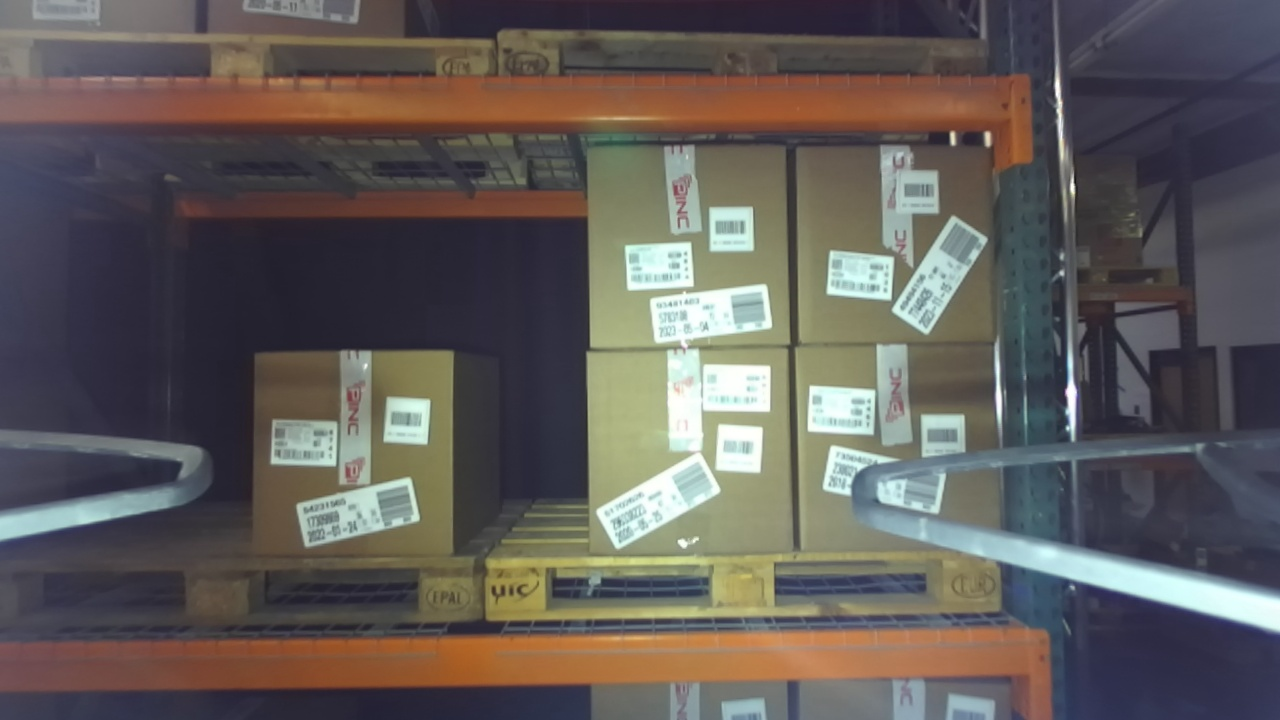box: (547, 326, 823, 568), (770, 327, 1039, 568), (764, 122, 1027, 364), (225, 336, 477, 585), (560, 127, 811, 369)
